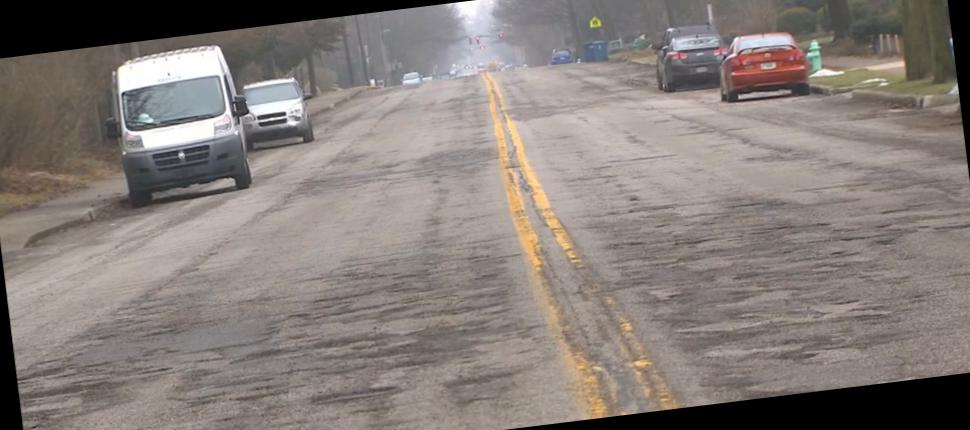pothole: (582, 137, 970, 415), (14, 178, 184, 270)
